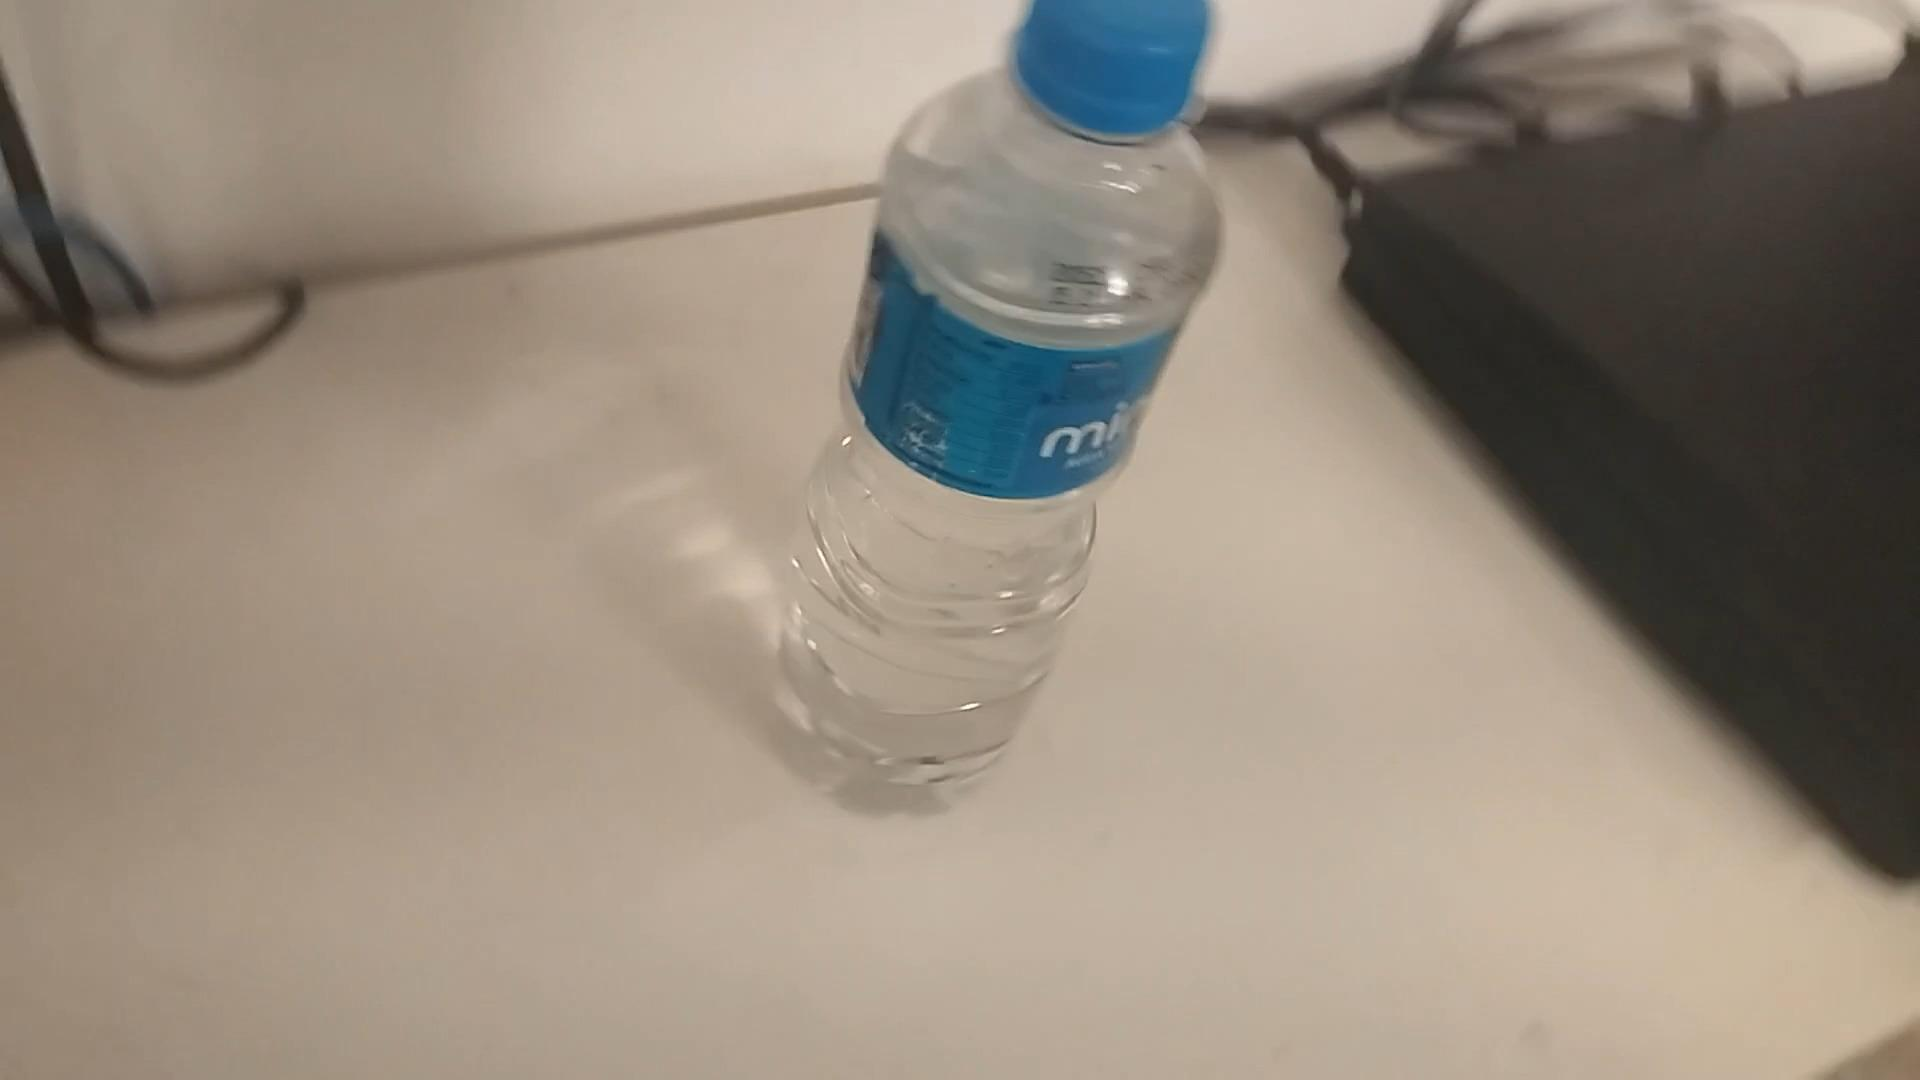agua: (756, 0, 1225, 807)
